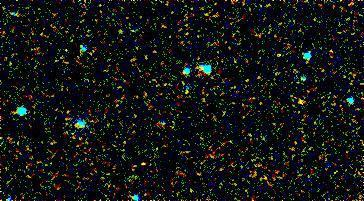star: (287, 85, 317, 115)
